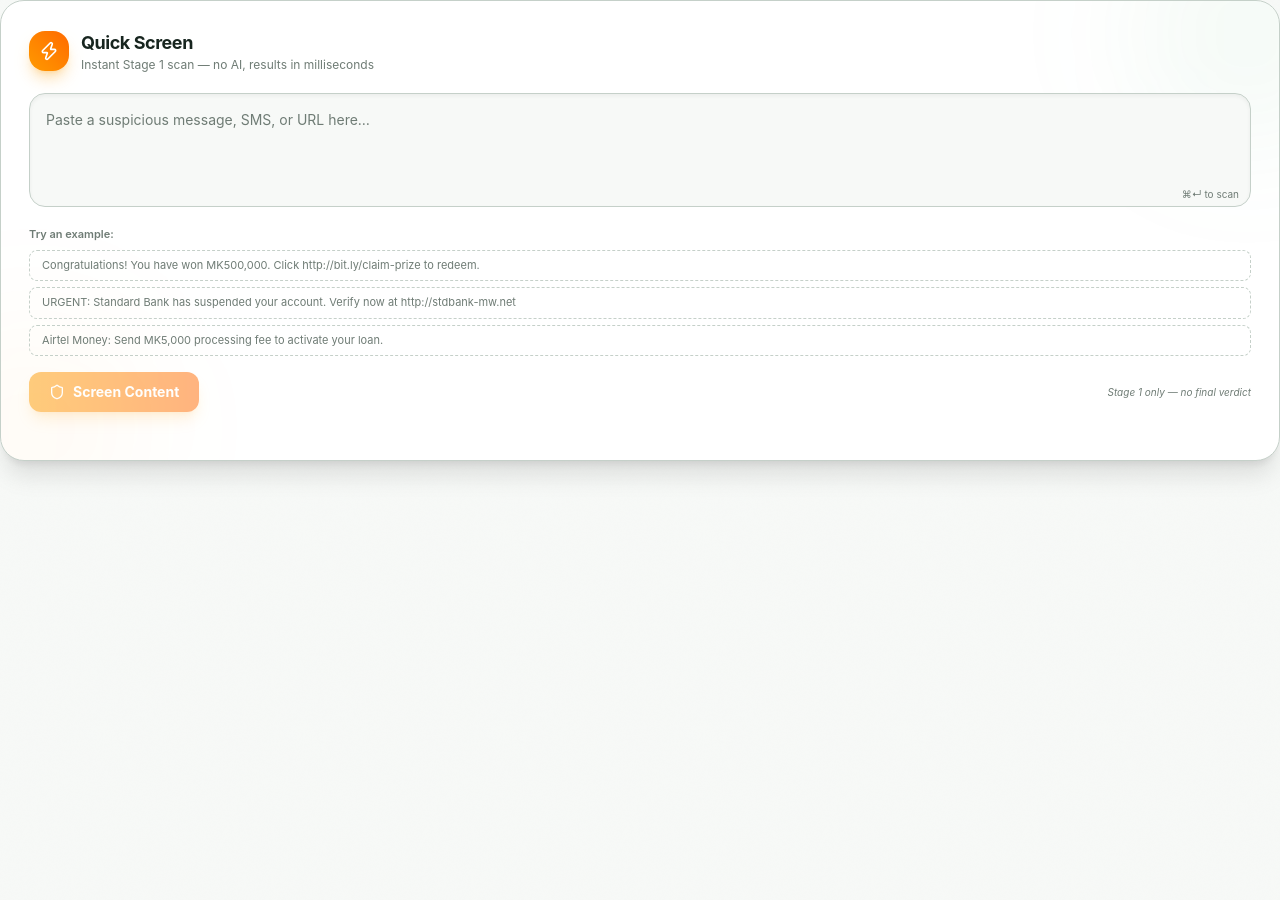
Test case: QuickScreenWidget › shows Clear button after text is entered
Type "Something here" into the text box with placeholder "Paste a suspicious message, SMS, or URL here…" at {"x": 640, "y": 150}, box [29,93,1251,207]
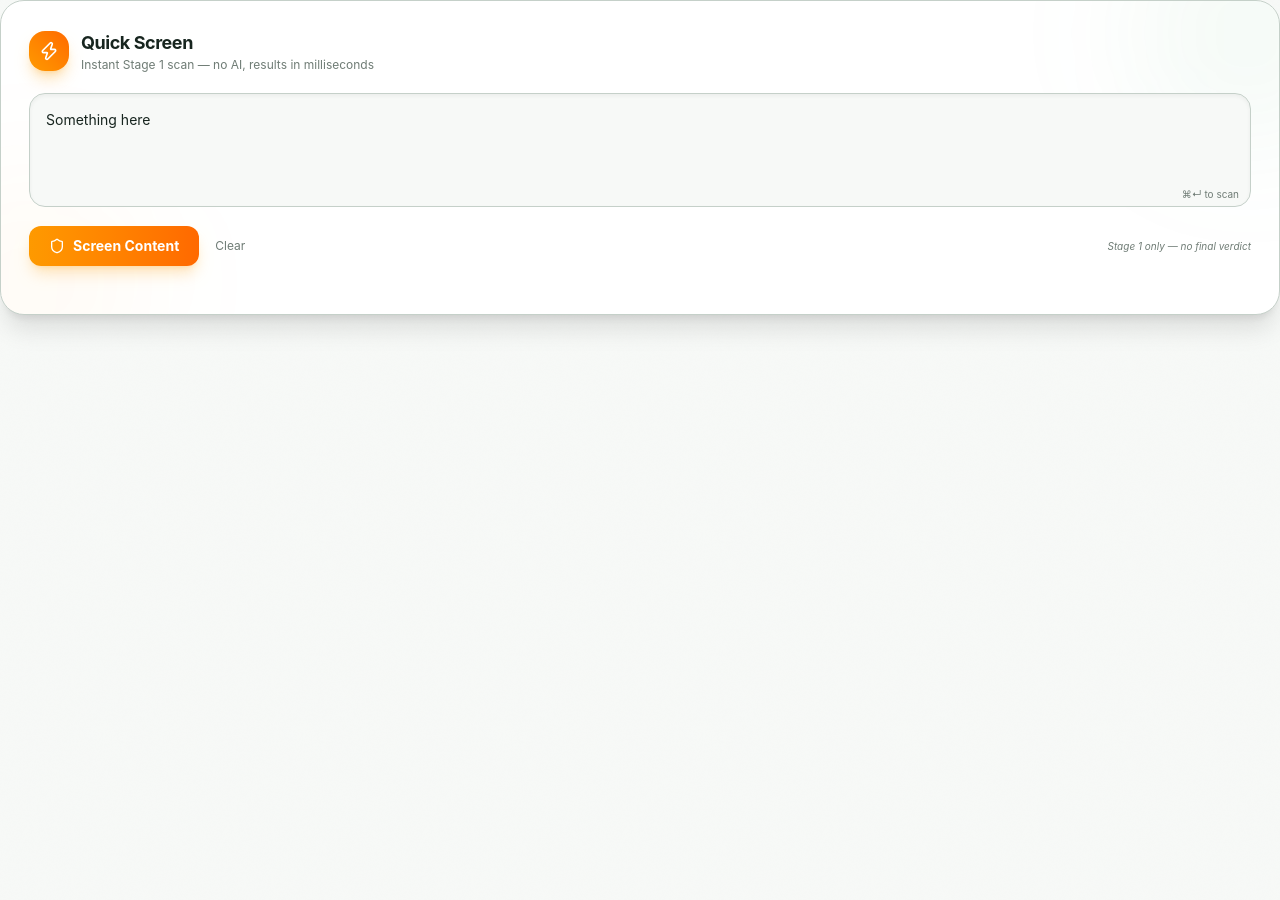
Check: the button "Clear" is shown, box [207,238,253,254]
